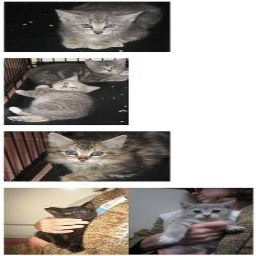cat: (5, 3, 256, 256)
